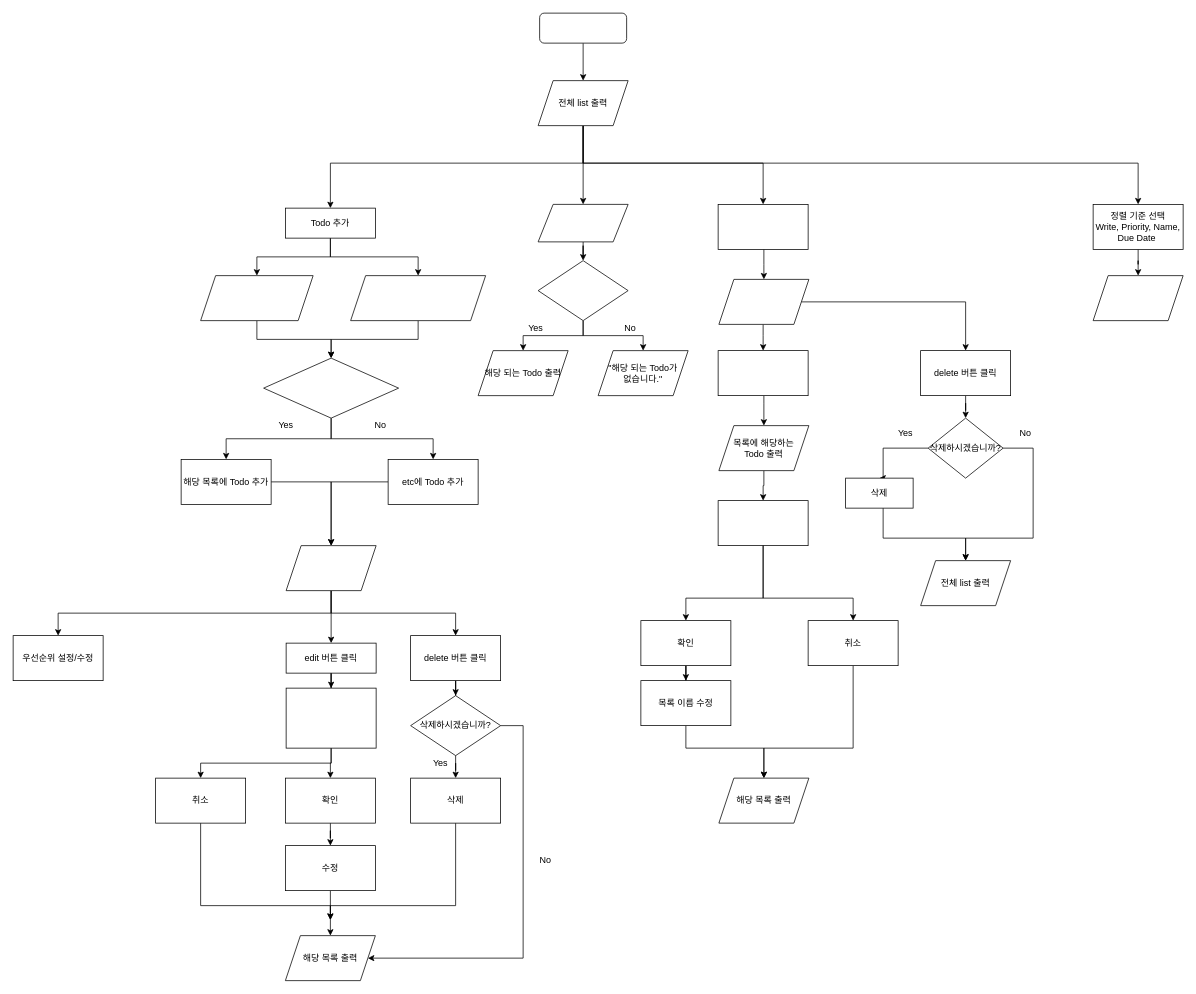
Some shapes in this 1196 by 994 pixel diagram are drawn without their labels. The centre of each missing label's shape, as x and y in pixels:
edit 창으로 이동뒤 title, description, due date, priority, list 등 자세하게 수정: the point at 330,717
Todo가 속한 목록 출력: the point at 330,568
검색어 입력: the point at 582,223
메인화면: the point at 583,27
목록 설정을 하였는가?: the point at 331,387
목록 하단 빈칸에 생성하고자 하는 목록 이름 입력 후 추가 버튼 클릭: the point at 762,226
본문에 상단에 있는 목록 이름 옆에 수정 버튼 클릭 후 이름 수정: the point at 762,523
새 목록 생성: the point at 763,301
오른쪽 상단 작성 아이콘 클릭 후 title, description, due date, priority, list 등 자세하게 설정/입력: the point at 418,298
원하는 목록 클릭: the point at 762,373
정렬 기준에 따라 Todo 출력: the point at 1137,298
하단 입력창에 Todo title 입력: the point at 256,298
해당 되는 Todo 가 있는가?: the point at 582,290
